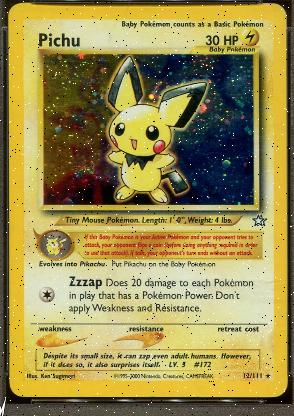Card: (5, 0, 287, 401)
